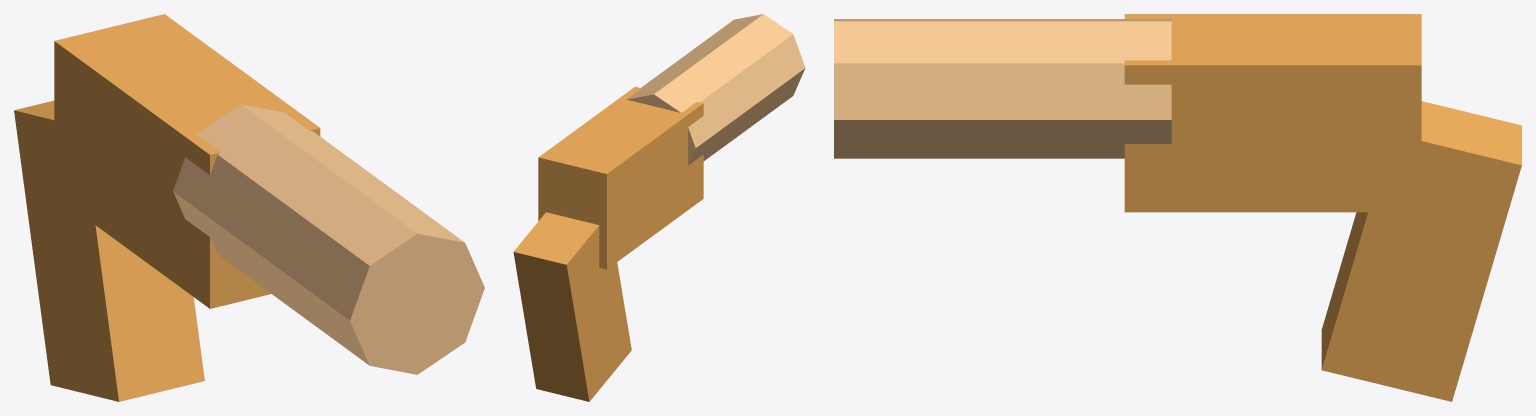
File: FlareGun.fbx
3 renders of one model, left to right at view 1: azimuth 30°, elevation 25°; view 2: azimuth 150°, elevation 25°; view 3: azimuth 270°, elevation 25°, orthographic. The views are drawn at different scales.
Visible parts, largest first — view 1: Body; view 2: Body; view 3: Body.
Part boxes in pixels (x1,y1,x2,y2): Body: (14,14,484,401); Body: (513,14,805,401); Body: (834,14,1521,401).
Size of the model in its own units: 0.11 by 0.2945 by 0.5092.
